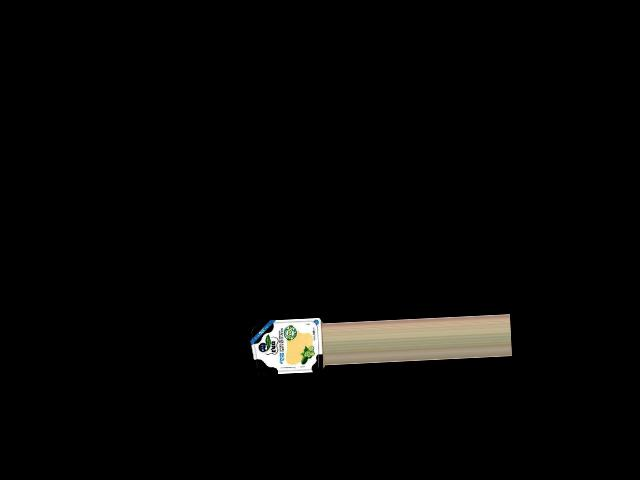cheese: (250, 314, 326, 378)
